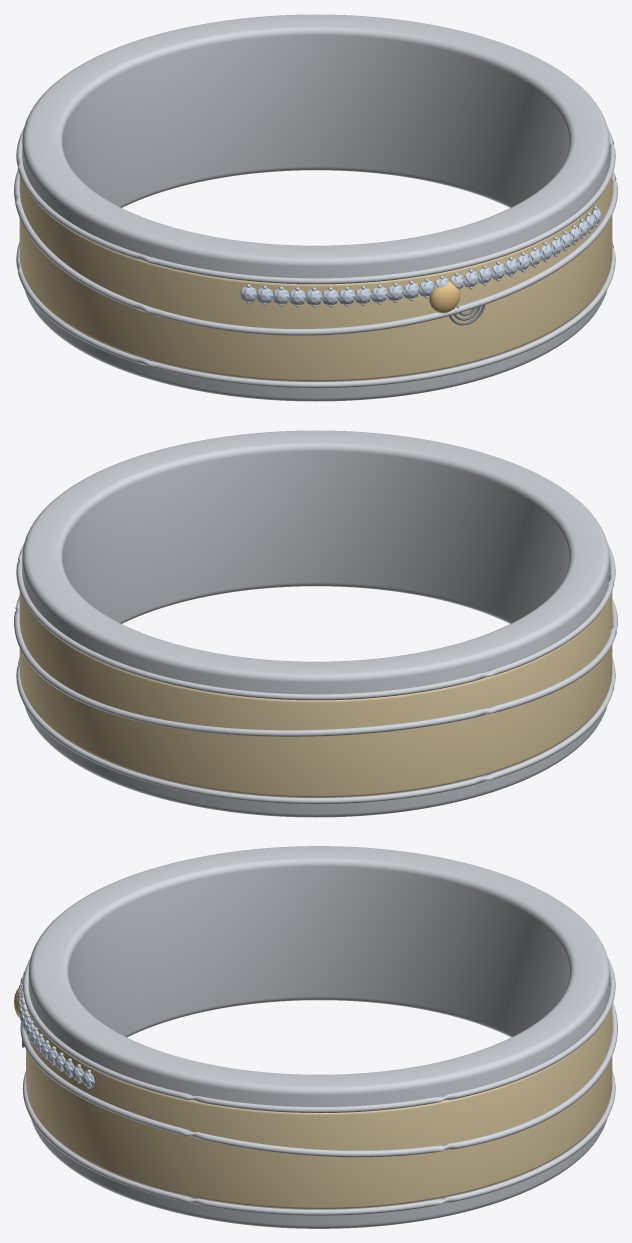
File: emoria-halo.glb
3 views of the same model, one above another, from view 1: azimuth 30°, elevation 25°; view 2: azimuth 150°, elevation 25°; view 3: azimuth 270°, elevation 25° (orthographic).
Parts seen in each view (by area): view 1: Polished silver, Champagne inlay, Brilliant crystal, Warm gold; view 2: Polished silver, Champagne inlay; view 3: Polished silver, Champagne inlay, Brilliant crystal.
Part boxes in pixels (x1=…): Polished silver: x1=14, y1=14, x2=617, y2=401; Champagne inlay: x1=19, y1=175, x2=612, y2=381; Brilliant crystal: x1=239, y1=208, x2=601, y2=305; Warm gold: x1=429, y1=281, x2=460, y2=313; Polished silver: x1=14, y1=430, x2=617, y2=817; Champagne inlay: x1=19, y1=591, x2=612, y2=797; Polished silver: x1=20, y1=846, x2=617, y2=1228; Champagne inlay: x1=26, y1=1005, x2=612, y2=1208; Brilliant crystal: x1=17, y1=971, x2=94, y2=1087.
Size of the model in its own units: 0.0203 by 0.0053 by 0.0205.
